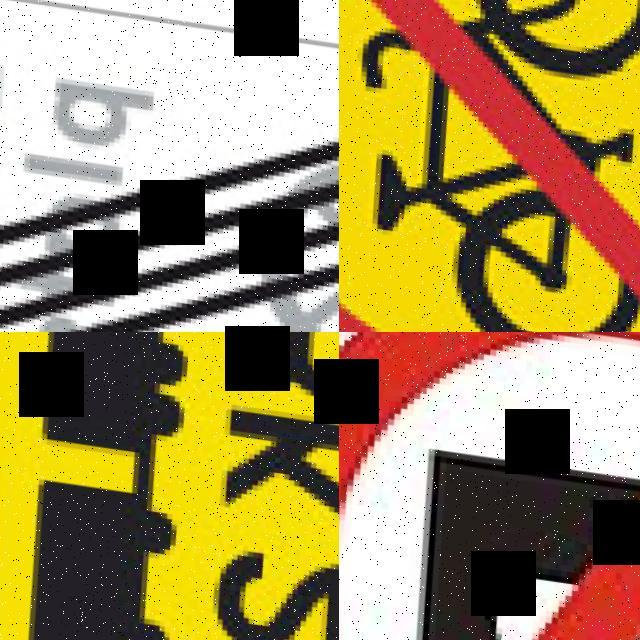115: (0, 0, 339, 332)
15: (0, 332, 339, 640)
39: (339, 0, 640, 332)
No parking: (339, 332, 640, 640)
